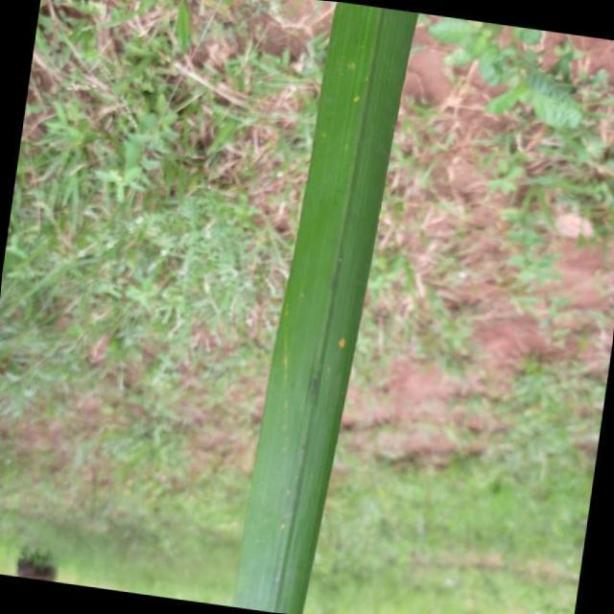Kalium: (232, 0, 422, 614)
